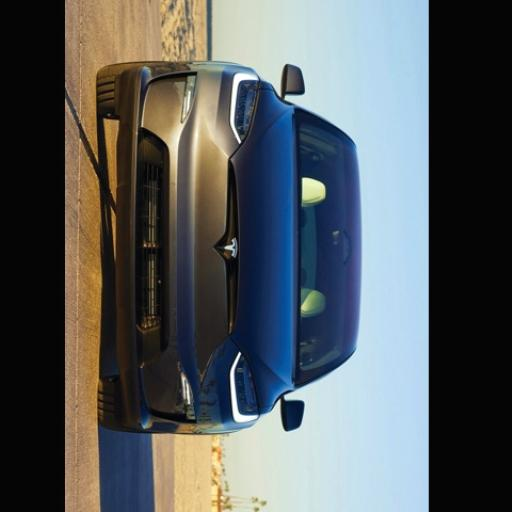suv: (97, 62, 361, 436)
